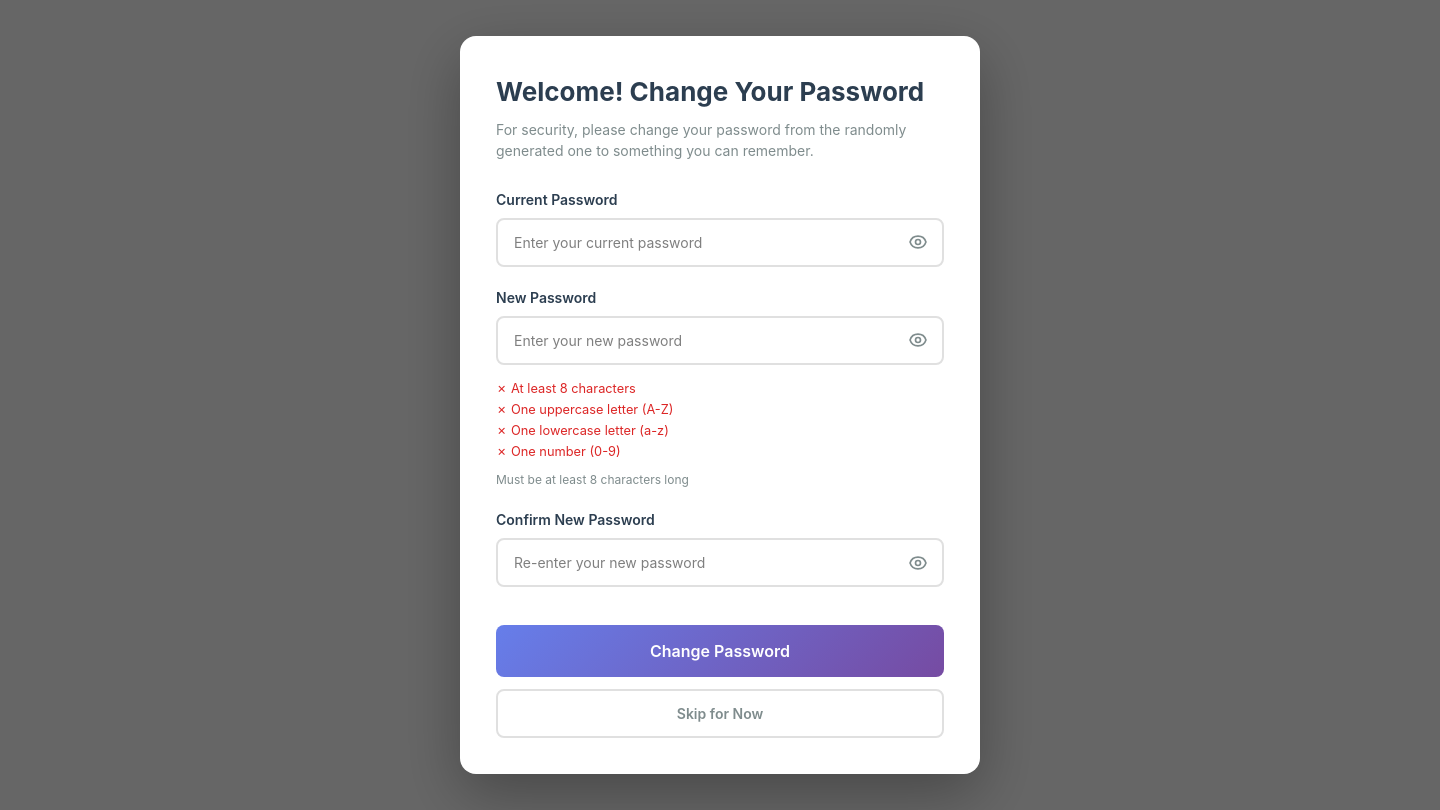
Test: FirstLoginModal Component › Form Validation › should show error when new password is too short
Type "OldPass123!" into the password field labelled "Current Password" at (720, 242), box [496,218,944,267]
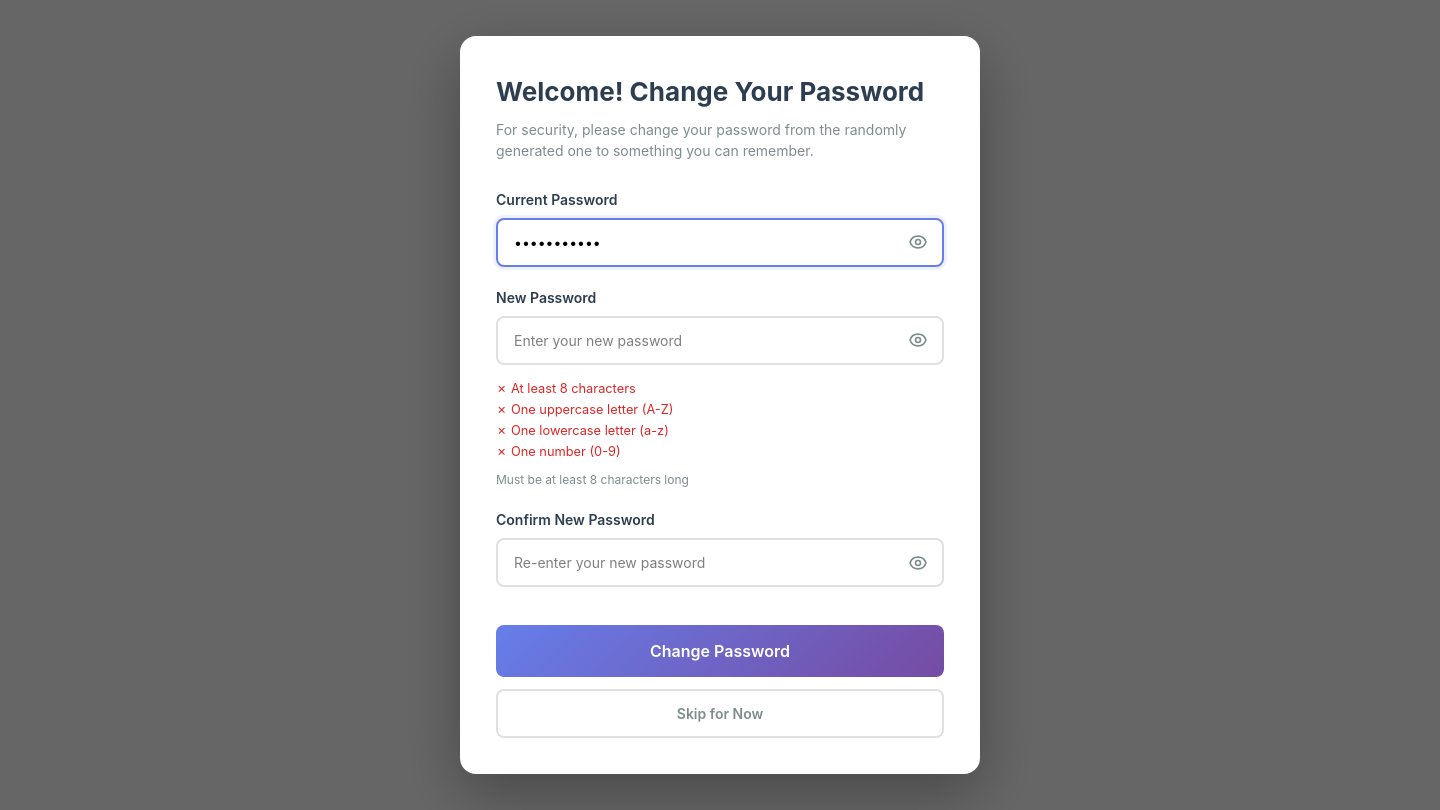
Type "Short1!" into the password field labelled "New Password" at (720, 340), box [496,316,944,365]
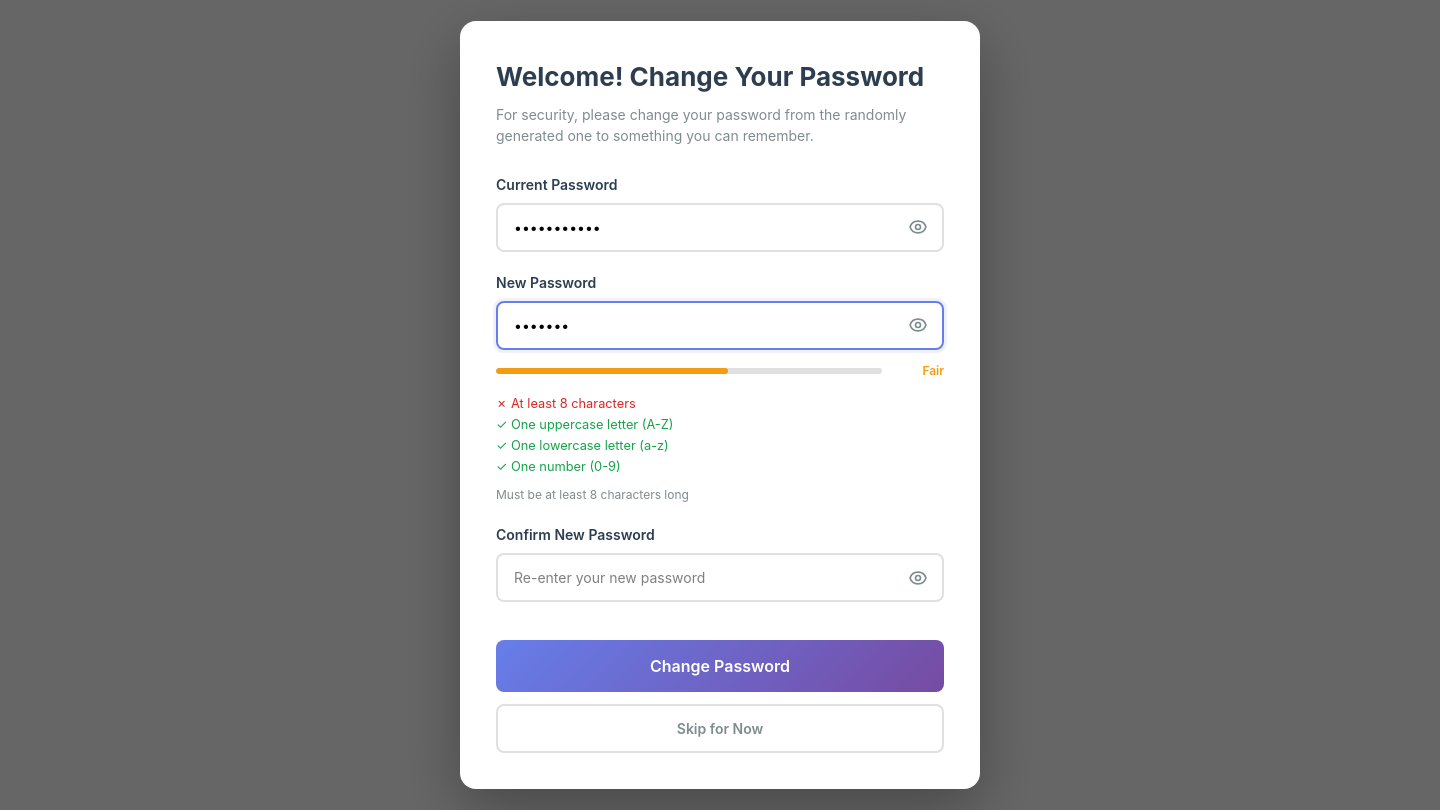
Type "Short1!" into the password field labelled "Confirm New Password" at (720, 578), box [496,553,944,602]
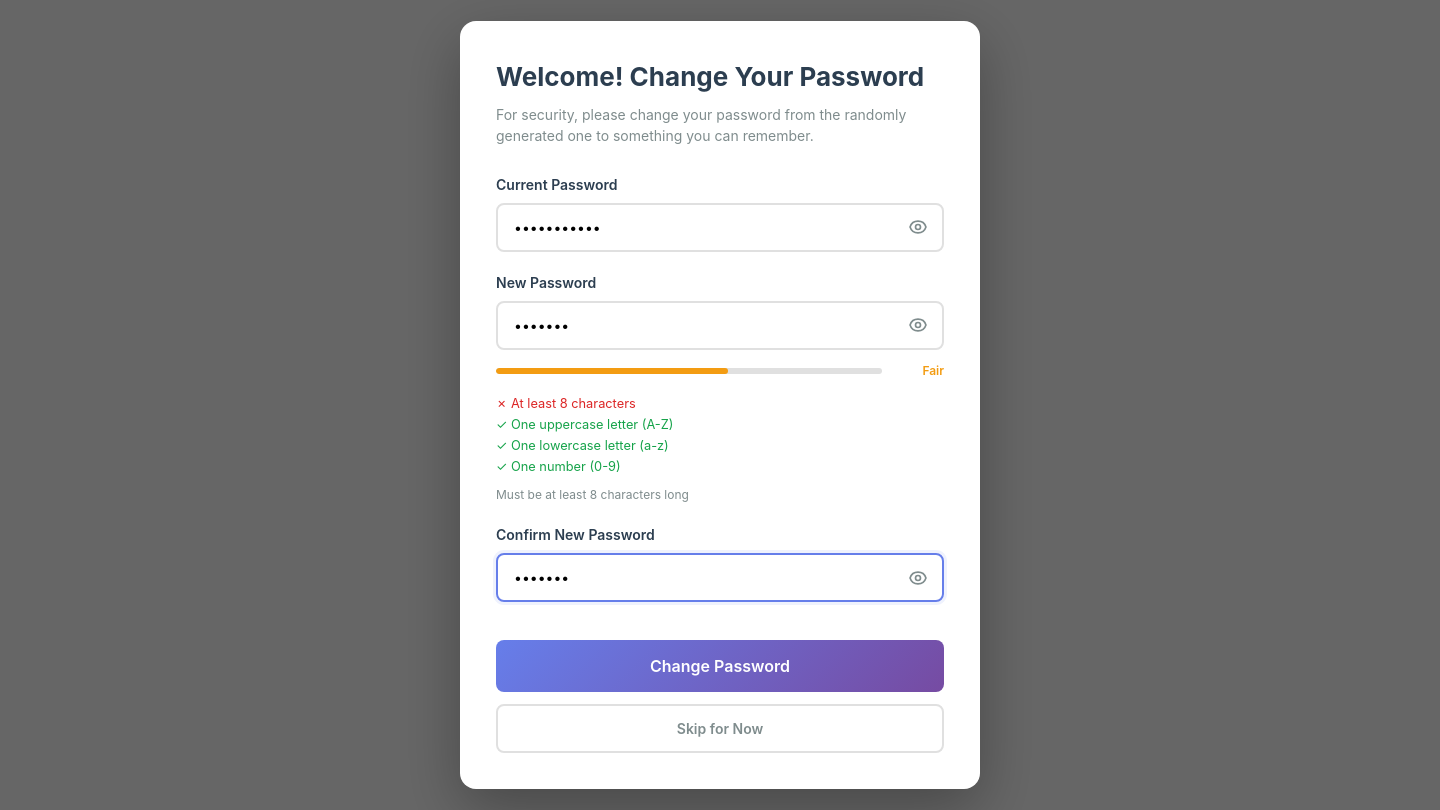
Click the button "Change Password" at (720, 666), box [496,640,944,692]
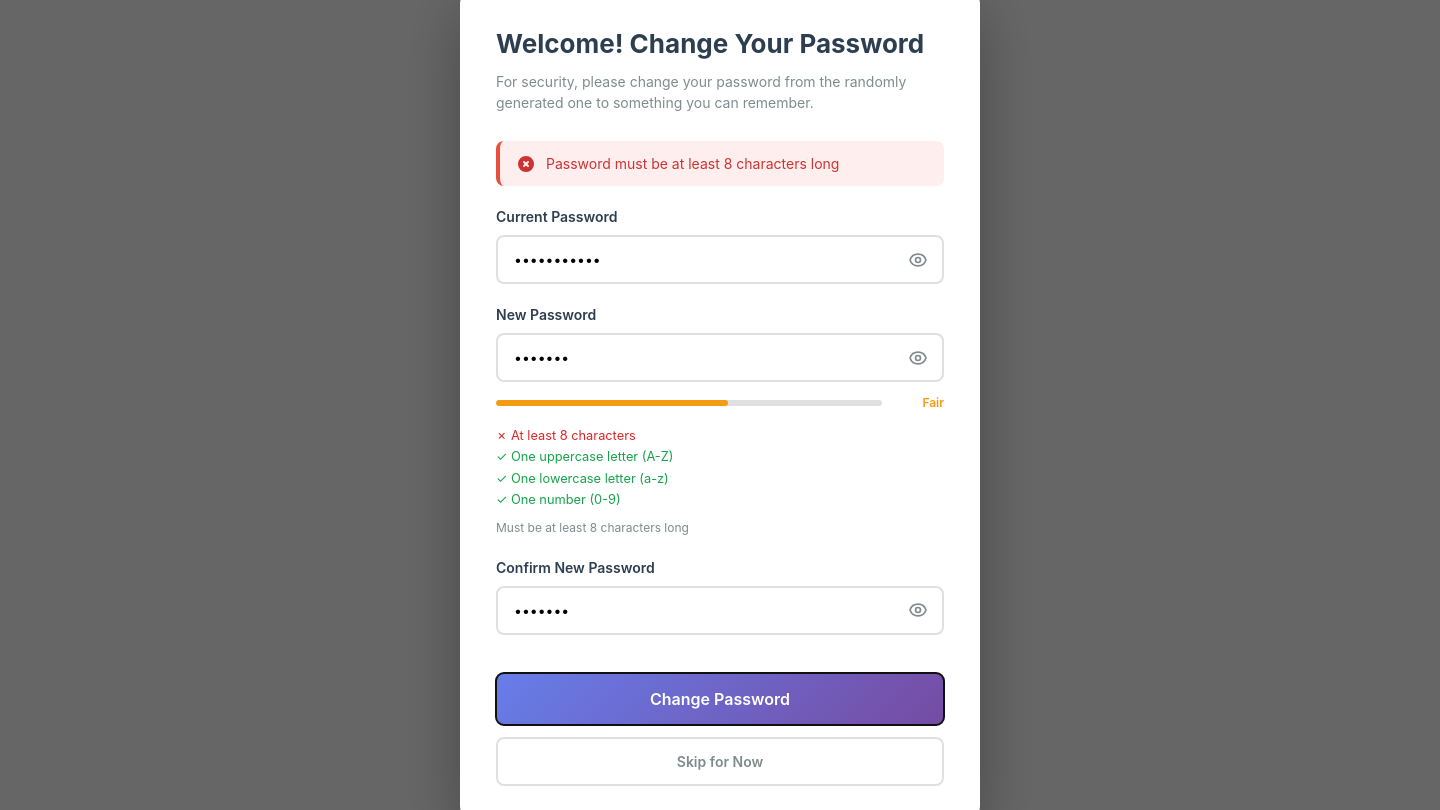
Expected: the text "Password must be at least 8 characters long" is shown, [496,141,944,186]
